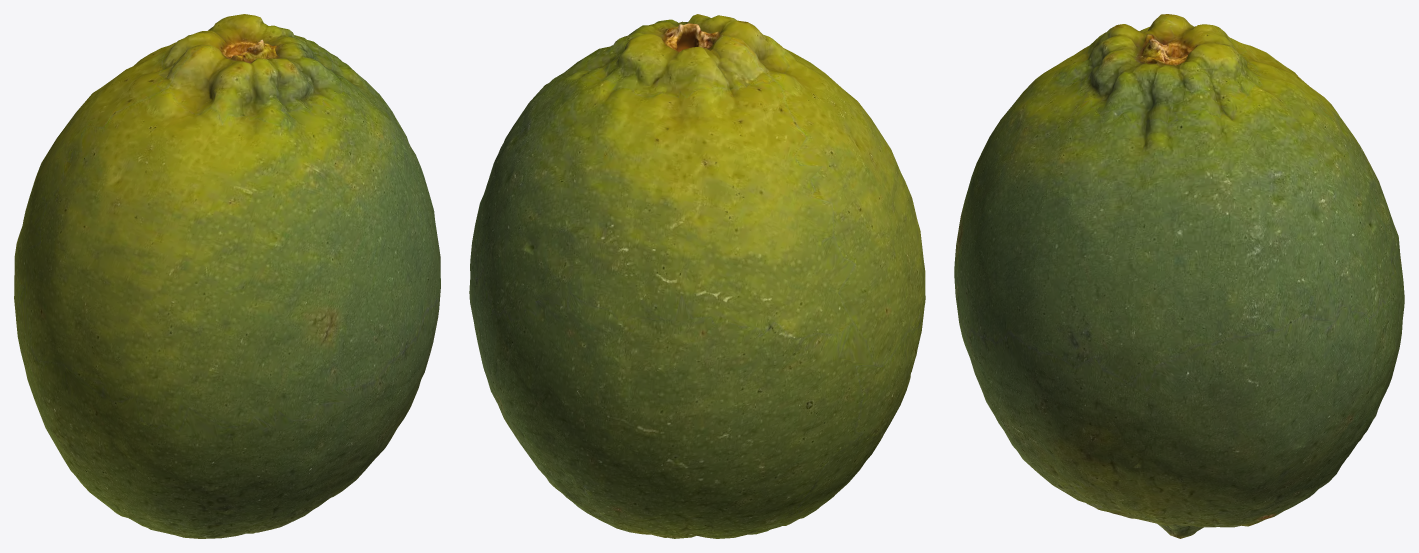
File: limette.glb
The picture shows the model from 3 angles, left to right: view 1: azimuth 30°, elevation 25°; view 2: azimuth 150°, elevation 25°; view 3: azimuth 270°, elevation 25°; orthographic projection.
Parts seen in each view (by area): view 1: food_lime_01; view 2: food_lime_01; view 3: food_lime_01.
Part boxes in pixels (box(x1,y1,x2,y2)): food_lime_01: box(14, 14, 440, 538); food_lime_01: box(469, 14, 925, 538); food_lime_01: box(954, 14, 1404, 538).
Bounding box in the file's own units: 0.0601 × 0.0754 × 0.0613.
1 material, 1 textured.
